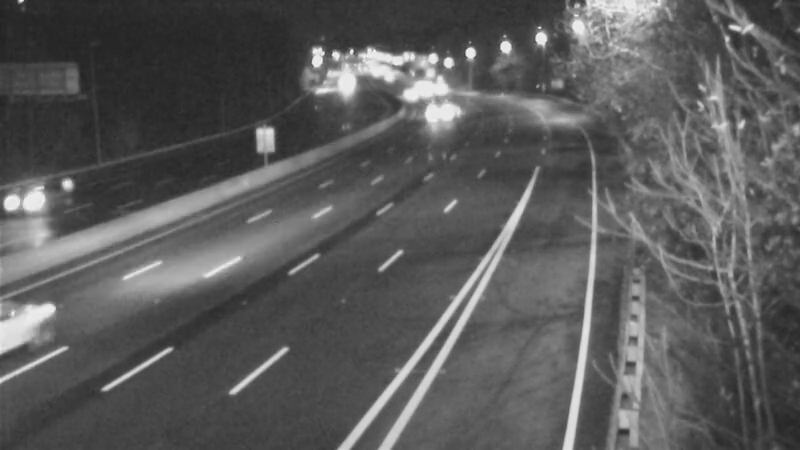vehicle: (1, 159, 75, 239), (381, 71, 431, 121), (414, 87, 464, 137)
